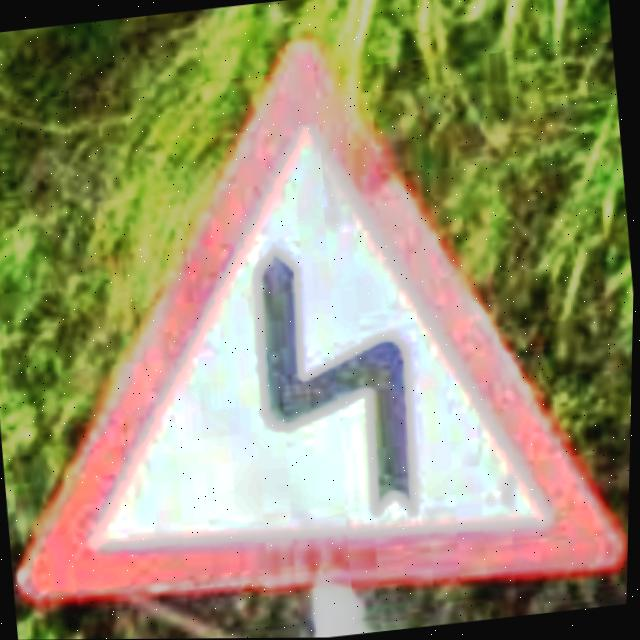doublebendleft: (20, 39, 629, 607)
